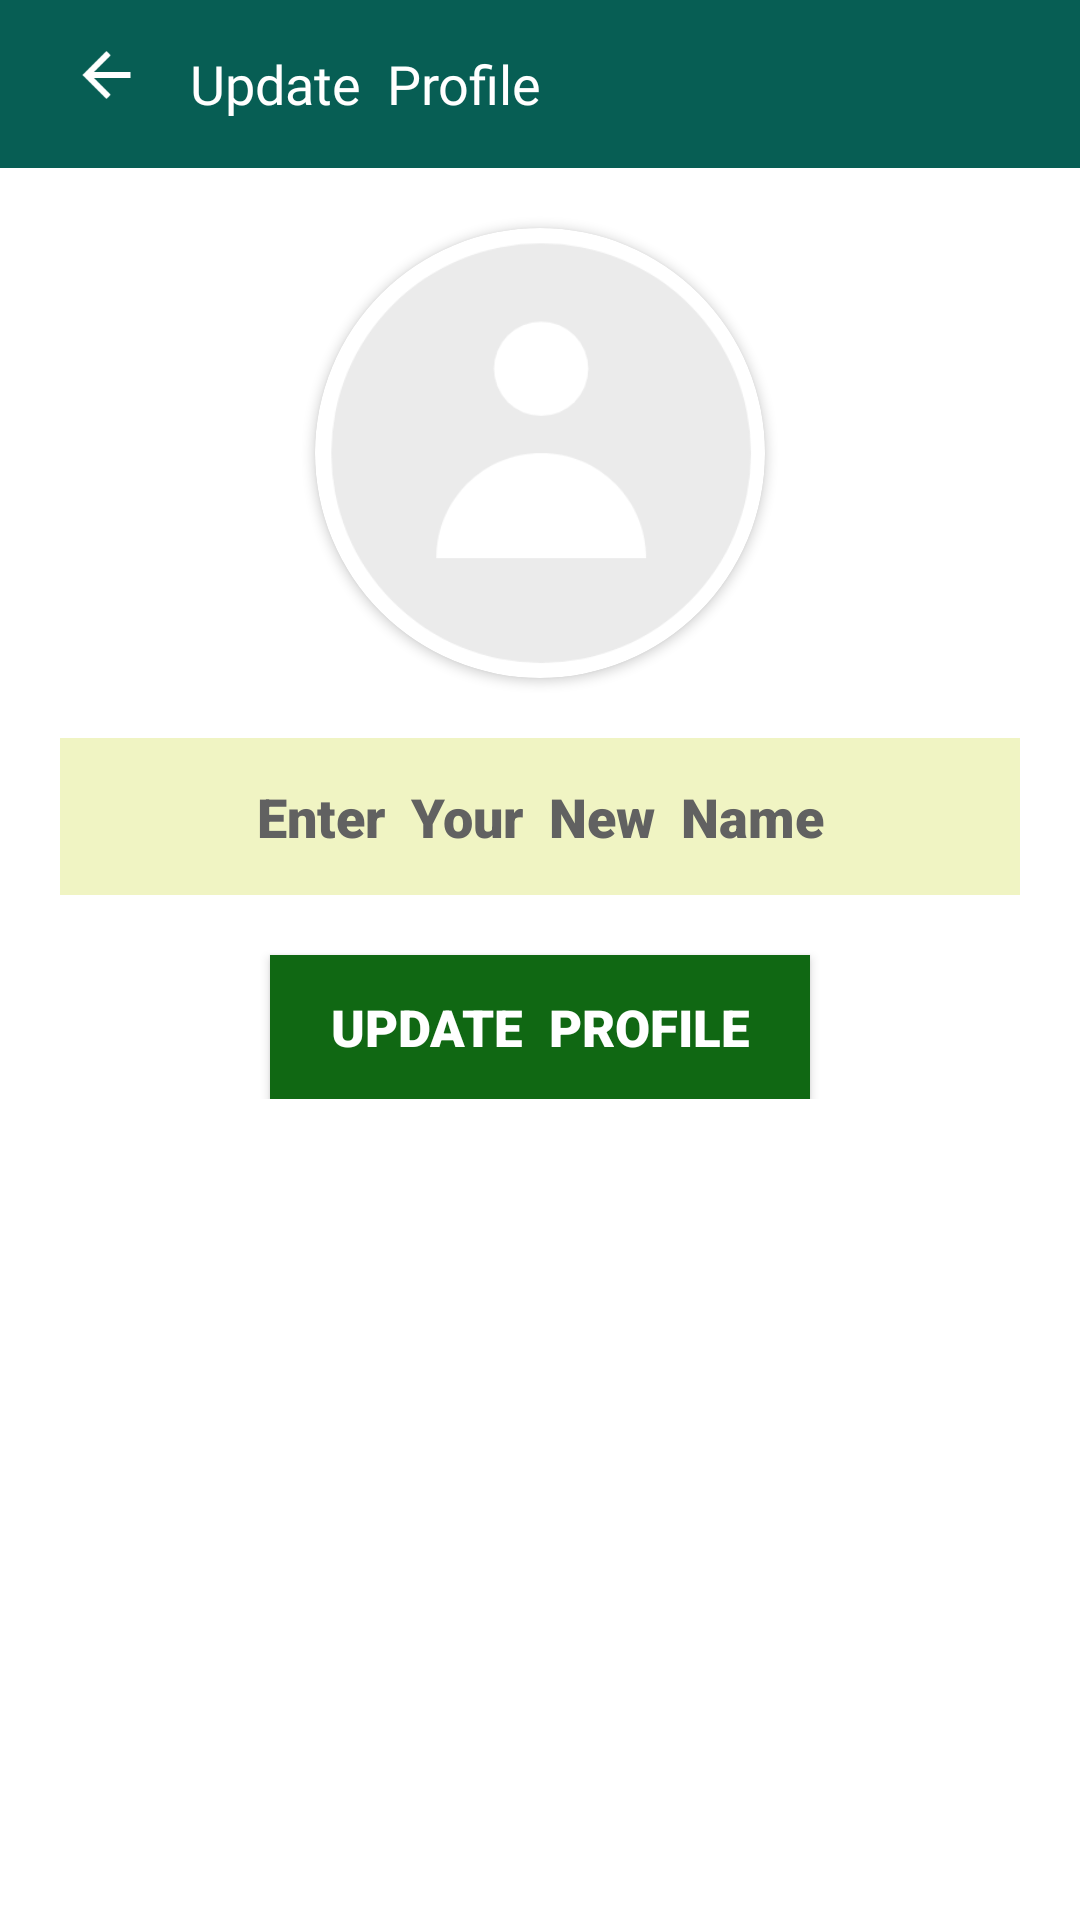

Named icons in this screenshot (1080px×1920px) and their centers, [x,y]:
arrow back: [106,75]
